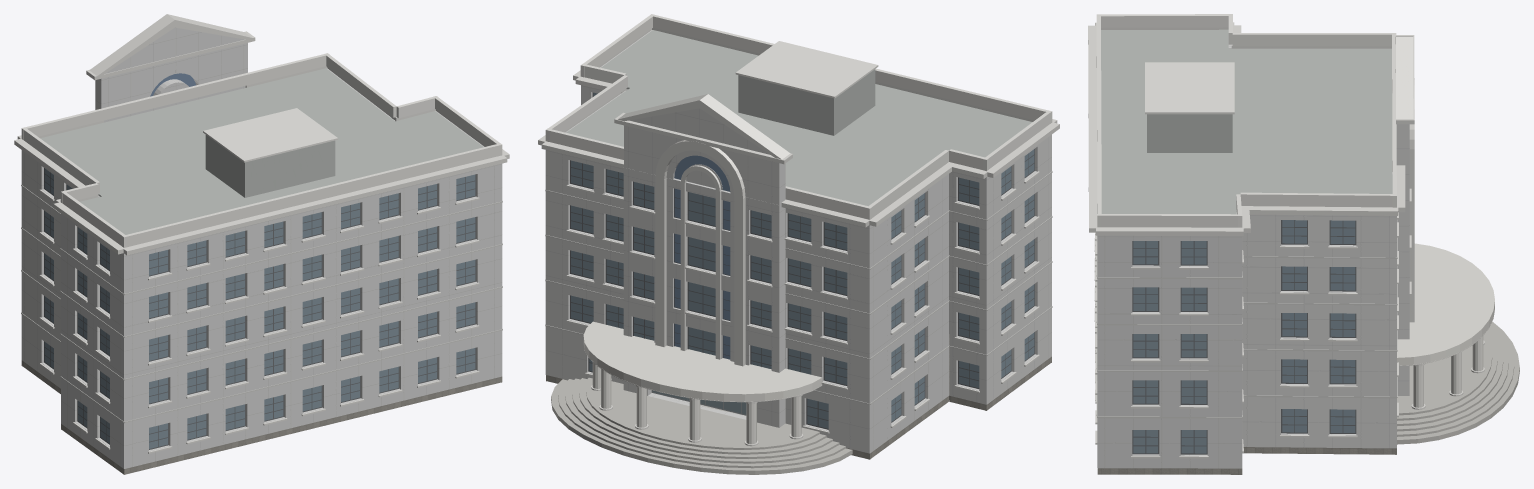
The picture shows the model from 3 angles, left to right: view 1: azimuth 30°, elevation 25°; view 2: azimuth 150°, elevation 25°; view 3: azimuth 270°, elevation 25°; orthographic projection. The views are drawn at different scales.
Visible parts, largest first — view 1: main__stone, main__roof, main__glass, main__cap, main__trim, main__frame, main__stonedark, main__plinth, main__foundation; view 2: main__stone, main__roof, main__glass, main__trim, main__cap, main__canopy, main__frame, main__threshold-front, main__stonedark, main__column, main__lunetteglass, main__plinth (+9 smaller); view 3: main__stone, main__roof, main__cap, main__glass, main__trim, main__canopy, main__frame, main__stonedark, main__threshold-front, main__plinth, main__column, main__foundation (+6 smaller).
Part boxes in pixels (x1,y1,x2,y2): main__stone: (21, 27, 502, 468); main__roof: (40, 68, 483, 234); main__glass: (44, 168, 475, 448); main__cap: (21, 53, 502, 247); main__trim: (14, 14, 509, 453); main__frame: (44, 168, 476, 449); main__stonedark: (21, 184, 502, 422); main__plinth: (21, 360, 502, 473); main__foundation: (21, 365, 502, 474); main__stone: (545, 30, 1051, 453); main__roof: (566, 30, 1032, 206); main__glass: (571, 92, 1034, 428); main__trim: (538, 27, 1059, 446); main__cap: (545, 14, 1052, 219); main__canopy: (583, 321, 822, 401); main__frame: (570, 92, 1034, 429); main__threshold-front: (586, 380, 819, 449); main__stonedark: (545, 171, 1052, 404); main__column: (592, 362, 801, 444); main__lunetteglass: (674, 155, 730, 359); main__plinth: (546, 334, 1051, 458); main__stone: (1097, 44, 1409, 468); main__roof: (1101, 29, 1392, 214); main__cap: (1096, 14, 1396, 227); main__glass: (1133, 220, 1355, 453); main__trim: (1088, 22, 1484, 458); main__canopy: (1397, 243, 1494, 365); main__frame: (1132, 220, 1356, 454); main__stonedark: (1096, 220, 1397, 418); main__threshold-front: (1397, 335, 1492, 415); main__plinth: (1097, 447, 1396, 473); main__column: (1413, 336, 1483, 407); main__foundation: (1097, 449, 1396, 474).
Bounding box in the file's own units: 34.78 × 26.08 × 30.34.
16 materials, 4 textured.
